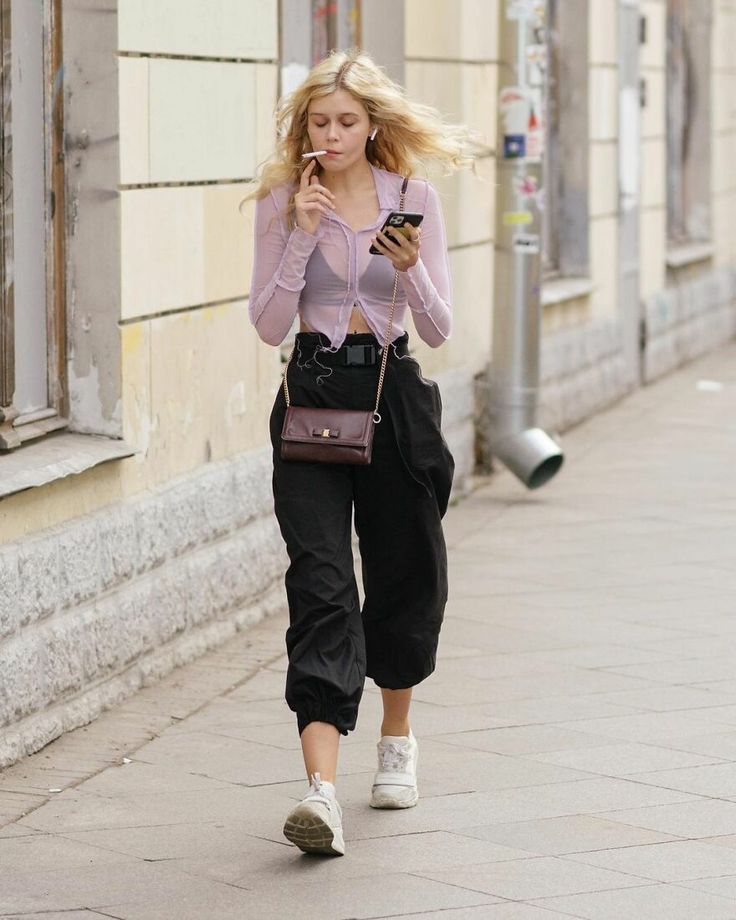person: (245, 45, 468, 874)
